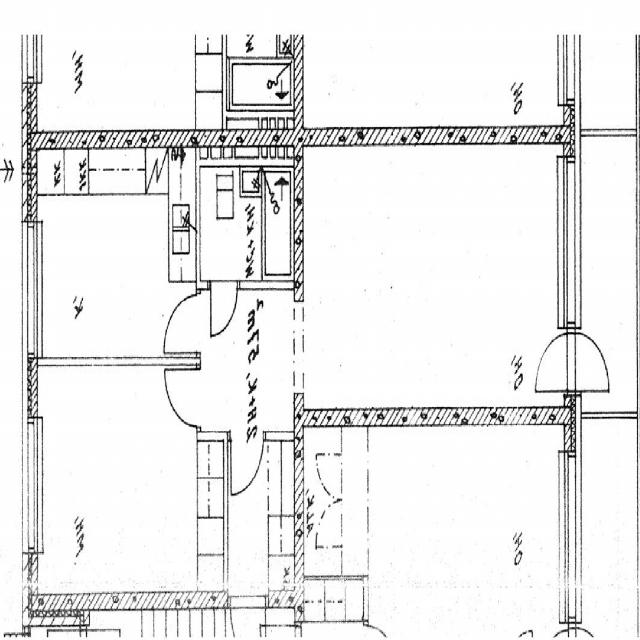door: (564, 333, 614, 391), (531, 333, 581, 391), (163, 294, 201, 353), (165, 370, 201, 426), (230, 591, 266, 640), (211, 280, 238, 337)
